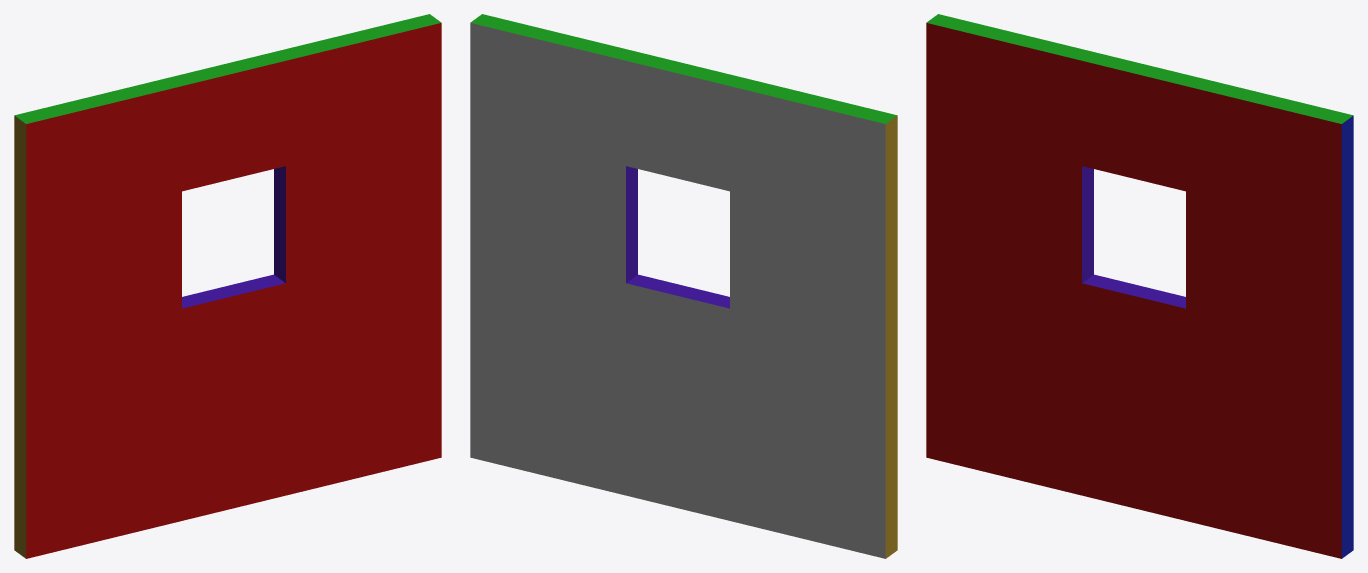
Rendered from Wall_Window_03a.fbx.
3 renders of one model, left to right at view 1: azimuth 30°, elevation 25°; view 2: azimuth 150°, elevation 25°; view 3: azimuth 330°, elevation 25°, orthographic.
Visible parts, largest first — view 1: Wall_Window_03a; view 2: Wall_Window_03a; view 3: Wall_Window_03a.
Part boxes in pixels (x1,y1,x2,y2): Wall_Window_03a: (14, 14, 441, 558); Wall_Window_03a: (470, 14, 897, 558); Wall_Window_03a: (926, 14, 1353, 558).
Size of the model in its own units: 3 by 0.15 by 3.
